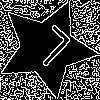L: (21, 23, 74, 76)
